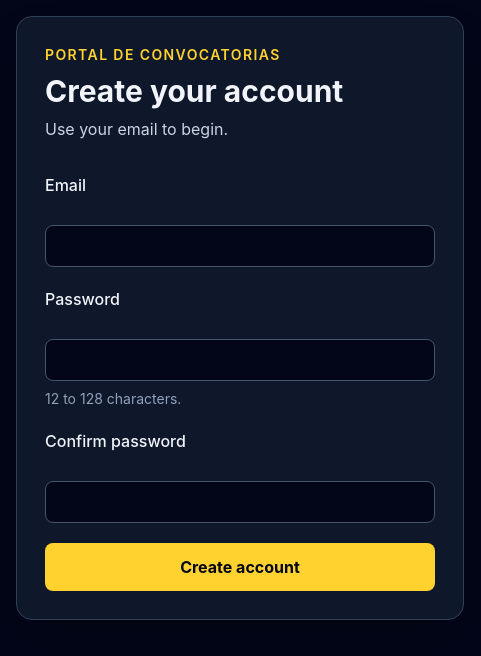
Scenario: /register › shows the expected server state for 422
Type " Person@Example.com " into the field labelled "Email" at (240, 246), box [45, 225, 435, 267]
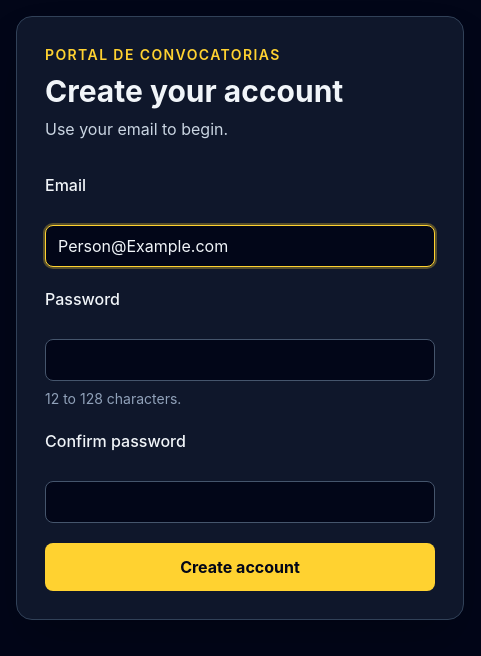
Type "correct horse battery" into the password field labelled "Password" at (240, 360), box [45, 339, 435, 381]
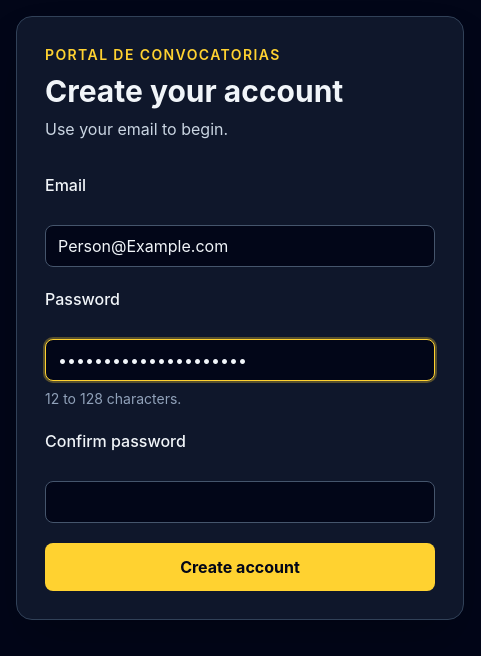
Type "correct horse battery" into the password field labelled "Confirm password" at (240, 502), box [45, 481, 435, 523]
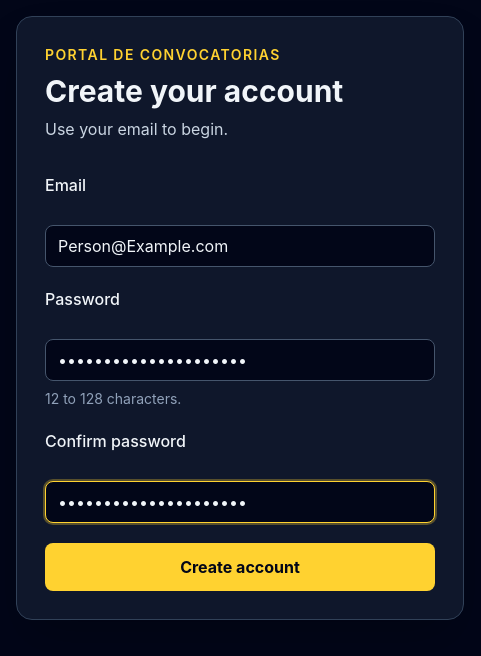
Click the button "Create account" at (240, 567), box [45, 543, 435, 591]
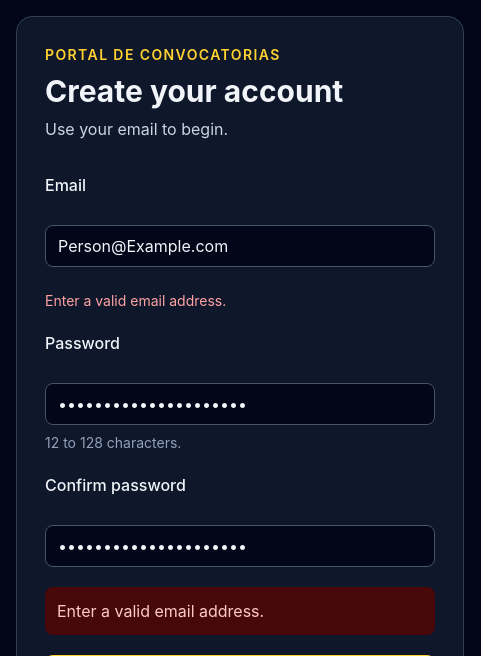
Expected: the message reads "Enter a valid email address.", [57, 601, 264, 621]
